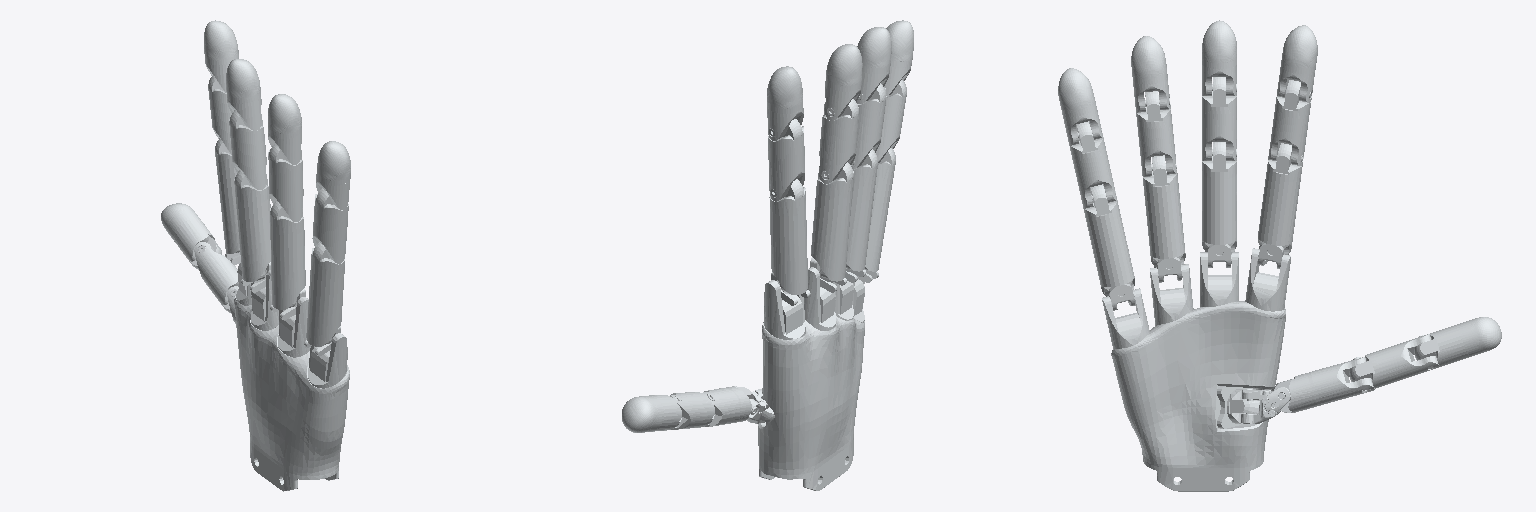
--- Facts derived from the render (not from the file) ---
3 views of the same robot in one strip: view 1: azimuth 30°, elevation 25°; view 2: azimuth 150°, elevation 25°; view 3: azimuth 270°, elevation 25° (orthographic).
Robot: wujihand-right-v1.0.1 — 26 links, 25 joints (20 revolute, 5 fixed); root link palm_link; default pose: every joint at zero.
Visible links, largest first — view 1: palm_link, finger4_link2, finger3_link2, finger5_link2, finger3_link3, finger4_link3, finger5_link3, finger2_link2, finger1_link3, finger3_tip_link, finger4_tip_link, finger2_tip_link (+7 smaller); view 2: palm_link, finger3_link2, finger2_link2, finger4_link2, finger3_link3, finger2_link3, finger5_link2, finger4_link3, finger3_tip_link, finger2_tip_link, finger1_link2, finger4_tip_link (+8 smaller); view 3: palm_link, finger4_link2, finger3_link2, finger5_link2, finger2_link2, finger1_link2, finger1_link3, finger3_link3, finger5_link3, finger4_link3, finger2_link3, finger2_tip_link (+10 smaller).
Boxes of the visible links, bbox=[...] form: palm_link: bbox=[234, 263, 349, 491]; finger4_link2: bbox=[270, 201, 305, 309]; finger3_link2: bbox=[234, 170, 270, 281]; finger5_link2: bbox=[306, 242, 344, 346]; finger3_link3: bbox=[229, 110, 266, 189]; finger4_link3: bbox=[268, 144, 303, 221]; finger5_link3: bbox=[312, 188, 348, 263]; finger2_link2: bbox=[215, 138, 239, 253]; finger1_link3: bbox=[194, 242, 238, 313]; finger3_tip_link: bbox=[226, 59, 260, 103]; finger4_tip_link: bbox=[268, 94, 301, 138]; finger2_tip_link: bbox=[204, 20, 238, 65]; palm_link: bbox=[758, 267, 864, 490]; finger3_link2: bbox=[811, 162, 853, 281]; finger2_link2: bbox=[769, 179, 807, 294]; finger4_link2: bbox=[846, 149, 877, 271]; finger3_link3: bbox=[819, 99, 858, 183]; finger2_link3: bbox=[768, 119, 804, 201]; finger5_link2: bbox=[864, 148, 895, 271]; finger4_link3: bbox=[851, 83, 886, 169]; finger3_tip_link: bbox=[825, 44, 862, 91]; finger2_tip_link: bbox=[767, 66, 802, 113]; finger1_link2: bbox=[703, 386, 757, 426]; finger4_tip_link: bbox=[857, 27, 891, 73]; palm_link: bbox=[1102, 248, 1290, 491]; finger4_link2: bbox=[1143, 155, 1185, 268]; finger3_link2: bbox=[1202, 142, 1236, 254]; finger5_link2: bbox=[1083, 184, 1134, 296]; finger2_link2: bbox=[1258, 143, 1302, 254]; finger1_link2: bbox=[1273, 357, 1374, 412]; finger1_link3: bbox=[1349, 334, 1438, 390]; finger3_link3: bbox=[1202, 77, 1236, 160]; finger5_link3: bbox=[1069, 121, 1116, 208]; finger4_link3: bbox=[1136, 91, 1176, 176]; finger2_link3: bbox=[1268, 80, 1310, 165]; finger2_tip_link: bbox=[1281, 25, 1317, 73].
Size in the robot's own frame: 0.0498 by 0.1894 by 0.2057 metres.
26 mesh visuals loaded from 26 distinct referenced files (26 binary STL).

URDF robot description (wujihand-right-v1.0.1):
<?xml version="1.0" encoding="utf-8"?>
<robot
  name="wujihand-right-v1.0.1">
  <link
    name="palm_link">
    <inertial>
      <origin
        xyz="-0.0029795 0.00045572 0.036654"
        rpy="0 0 0" />
      <mass
        value="0.2179" />
      <inertia
        ixx="0.00021637"
        ixy="3.9165E-06"
        ixz="1.0657E-05"
        iyy="0.0001461"
        iyz="-1.0223E-05"
        izz="9.3156E-05" />
    </inertial>
    <visual>
      <origin
        xyz="0 0 0"
        rpy="0 0 0" />
      <geometry>
        <mesh
          filename="../meshes/right/palm_link.STL" />
      </geometry>
      <material
        name="">
        <color
          rgba="0.89804 0.91765 0.92941 1" />
      </material>
    </visual>
    <collision>
      <origin
        xyz="0 0 0"
        rpy="0 0 0" />
      <geometry>
        <mesh
          filename="../meshes/right/palm_link.STL" />
      </geometry>
    </collision>
  </link>
  <link
    name="finger1_link1">
    <inertial>
      <origin
        xyz="-0.0024628 -0.0014428 0.0077802"
        rpy="0 0 0" />
      <mass
        value="0.0075" />
      <inertia
        ixx="1.4319E-07"
        ixy="-7.6048E-09"
        ixz="-1.812E-10"
        iyy="1.307E-07"
        iyz="1.7145E-08"
        izz="1.0259E-07" />
    </inertial>
    <visual>
      <origin
        xyz="0 0 0"
        rpy="0 0 0" />
      <geometry>
        <mesh
          filename="../meshes/right/finger1_link1.STL" />
      </geometry>
      <material
        name="">
        <color
          rgba="0.89804 0.91765 0.92941 1" />
      </material>
    </visual>
    <collision>
      <origin
        xyz="0 0 0"
        rpy="0 0 0" />
      <geometry>
        <mesh
          filename="../meshes/right/finger1_link1.STL" />
      </geometry>
    </collision>
  </link>
  <joint
    name="finger1_joint1"
    type="revolute">
    <origin
      xyz="0.0085244 0.020575 0.028712"
      rpy="-1.328 -0.37161 -0.7307" />
    <parent
      link="palm_link" />
    <child
      link="finger1_link1" />
    <axis
      xyz="-0 1 -0" />
    <limit
      lower="-0.0448"
      upper="1.6508"
      effort="0.6"
      velocity="8.58701992" />
  </joint>
  <link
    name="finger1_link2">
    <inertial>
      <origin
        xyz="0.0011196 -1.2405E-05 0.015663"
        rpy="0 0 0" />
      <mass
        value="0.0248" />
      <inertia
        ixx="1.6585E-06"
        ixy="1.071E-08"
        ixz="1.0344E-08"
        iyy="1.694E-06"
        iyz="1.058E-08"
        izz="4.1017E-07" />
    </inertial>
    <visual>
      <origin
        xyz="0 0 0"
        rpy="0 0 0" />
      <geometry>
        <mesh
          filename="../meshes/right/finger1_link2.STL" />
      </geometry>
      <material
        name="">
        <color
          rgba="0.89804 0.91765 0.92941 1" />
      </material>
    </visual>
    <collision>
      <origin
        xyz="0 0 0"
        rpy="0 0 0" />
      <geometry>
        <mesh
          filename="../meshes/right/finger1_link2.STL" />
      </geometry>
    </collision>
  </link>
  <joint
    name="finger1_joint2"
    type="revolute">
    <origin
      xyz="-0.0047549 -0.0060191 0.014132"
      rpy="-0.57428 -0.23677 1.8034" />
    <parent
      link="finger1_link1" />
    <child
      link="finger1_link2" />
    <axis
      xyz="-0 -1 -0" />
    <limit
      lower="-0.1659"
      upper="0.9339"
      effort="0.6"
      velocity="11.10029404" />
  </joint>
  <link
    name="finger1_link3">
    <inertial>
      <origin
        xyz="-0.0011235 -1.579E-05 0.013056"
        rpy="0 0 0" />
      <mass
        value="0.0165" />
      <inertia
        ixx="1.0981E-06"
        ixy="1.7603E-11"
        ixz="-1.669E-08"
        iyy="1.0736E-06"
        iyz="-9.86E-10"
        izz="3.3917E-07" />
    </inertial>
    <visual>
      <origin
        xyz="0 0 0"
        rpy="0 0 0" />
      <geometry>
        <mesh
          filename="../meshes/right/finger1_link3.STL" />
      </geometry>
      <material
        name="">
        <color
          rgba="0.89804 0.91765 0.92941 1" />
      </material>
    </visual>
    <collision>
      <origin
        xyz="0 0 0"
        rpy="0 0 0" />
      <geometry>
        <mesh
          filename="../meshes/right/finger1_link3.STL" />
      </geometry>
    </collision>
  </link>
  <joint
    name="finger1_joint3"
    type="revolute">
    <origin
      xyz="0.00018873 -0.0009916 0.034664"
      rpy="0.049049 0.017311 -1.9085" />
    <parent
      link="finger1_link2" />
    <child
      link="finger1_link3" />
    <axis
      xyz="0 1 0" />
    <limit
      lower="-0.4932"
      upper="1.6272"
      effort="0.3"
      velocity="12.86307659" />
  </joint>
  <link
    name="finger1_link4">
    <inertial>
      <origin
        xyz="-0.0011922 0.00023589 0.0082118"
        rpy="0 0 0" />
      <mass
        value="0.0165" />
      <inertia
        ixx="3.6732E-07"
        ixy="1.4236E-10"
        ixz="-5.3805E-09"
        iyy="3.7712E-07"
        iyz="-9.5967E-10"
        izz="2.1481E-07" />
    </inertial>
    <visual>
      <origin
        xyz="0 0 0"
        rpy="0 0 0" />
      <geometry>
        <mesh
          filename="../meshes/right/finger1_link4.STL" />
      </geometry>
      <material
        name="">
        <color
          rgba="0.89804 0.91765 0.92941 1" />
      </material>
    </visual>
    <collision>
      <origin
        xyz="0 0 0"
        rpy="0 0 0" />
      <geometry>
        <mesh
          filename="../meshes/right/finger1_link4.STL" />
      </geometry>
    </collision>
  </link>
  <joint
    name="finger1_joint4"
    type="revolute">
    <origin
      xyz="0 -0.00025 0.0295"
      rpy="0 0 0" />
    <parent
      link="finger1_link3" />
    <child
      link="finger1_link4" />
    <axis
      xyz="0 1 0" />
    <limit
      lower="-0.4932"
      upper="1.6272"
      effort="0.3"
      velocity="13.57866158" />
  </joint>
  <link
    name="finger1_tip_link">
    <inertial>
      <origin
        xyz="-0.00018237 -3.9481E-06 -0.0041777"
        rpy="0 0 0" />
      <mass
        value="0.004" />
      <inertia
        ixx="1.8943E-07"
        ixy="4.6143E-11"
        ixz="6.9369E-09"
        iyy="1.8859E-07"
        iyz="4.42E-10"
        izz="1.6733E-07" />
    </inertial>
    <visual>
      <origin
        xyz="0 0 0"
        rpy="0 0 0" />
      <geometry>
        <mesh
          filename="../meshes/right/finger1_tip_link.STL" />
      </geometry>
      <material
        name="">
        <color
          rgba="0.89804 0.91765 0.92941 1" />
      </material>
    </visual>
    <collision>
      <origin
        xyz="0 0 0"
        rpy="0 0 0" />
      <geometry>
        <mesh
          filename="../meshes/right/finger1_tip_link.STL" />
      </geometry>
    </collision>
  </link>
  <joint
    name="finger1_tip_fixed"
    type="fixed">
    <origin
      xyz="-0.0011048 0.00023218 0.0283"
      rpy="0 0 0" />
    <parent
      link="finger1_link4" />
    <child
      link="finger1_tip_link" />
    <axis
      xyz="0 0 0" />
  </joint>
  <link
    name="finger2_link1">
    <inertial>
      <origin
        xyz="-0.0013291 -3.2911E-08 0.00031987"
        rpy="0 0 0" />
      <mass
        value="0.0032" />
      <inertia
        ixx="2.6373E-08"
        ixy="-3.9697E-14"
        ixz="-8.0422E-09"
        iyy="2.2948E-08"
        iyz="-2.4125E-13"
        izz="2.4484E-08" />
    </inertial>
    <visual>
      <origin
        xyz="0 0 0"
        rpy="0 0 0" />
      <geometry>
        <mesh
          filename="../meshes/right/finger2_link1.STL" />
      </geometry>
      <material
        name="">
        <color
          rgba="0.89804 0.91765 0.92941 1" />
      </material>
    </visual>
    <collision>
      <origin
        xyz="0 0 0"
        rpy="0 0 0" />
      <geometry>
        <mesh
          filename="../meshes/right/finger2_link1.STL" />
      </geometry>
    </collision>
  </link>
  <joint
    name="finger2_joint1"
    type="revolute">
    <origin
      xyz="-0.0058701 0.029434 0.091917"
      rpy="-0.11071 -0.071139 -0.21822" />
    <parent
      link="palm_link" />
    <child
      link="finger2_link1" />
    <axis
      xyz="0 1 0" />
    <limit
      lower="-0.32695"
      upper="1.63595"
      effort="1"
      velocity="8.203047484" />
  </joint>
  <link
    name="finger2_link2">
    <inertial>
      <origin
        xyz="-0.0061577 -4.1189E-07 0.020911"
        rpy="0 0 0" />
      <mass
        value="0.033" />
      <inertia
        ixx="4.0385E-06"
        ixy="-1.83E-11"
        ixz="-1.0142E-07"
        iyy="4.0532E-06"
        iyz="1.4532E-10"
        izz="5.6602E-07" />
    </inertial>
    <visual>
      <origin
        xyz="0 0 0"
        rpy="0 0 0" />
      <geometry>
        <mesh
          filename="../meshes/right/finger2_link2.STL" />
      </geometry>
      <material
        name="">
        <color
          rgba="0.89804 0.91765 0.92941 1" />
      </material>
    </visual>
    <collision>
      <origin
        xyz="0 0 0"
        rpy="0 0 0" />
      <geometry>
        <mesh
          filename="../meshes/right/finger2_link2.STL" />
      </geometry>
    </collision>
  </link>
  <joint
    name="finger2_joint2"
    type="revolute">
    <origin
      xyz="0.0022 0 0.004"
      rpy="0 0 0" />
    <parent
      link="finger2_link1" />
    <child
      link="finger2_link2" />
    <axis
      xyz="-1 0 0" />
    <limit
      lower="-0.495"
      upper="0.495"
      effort="0.2"
      velocity="8.115781022" />
  </joint>
  <link
    name="finger2_link3">
    <inertial>
      <origin
        xyz="-0.0011668 4.1873E-06 0.026893"
        rpy="0 0 0" />
      <mass
        value="0.0165" />
      <inertia
        ixx="1.3423E-06"
        ixy="-6.5257E-13"
        ixz="3.4631E-08"
        iyy="1.3154E-06"
        iyz="8.8937E-10"
        izz="5.0263E-07" />
    </inertial>
    <visual>
      <origin
        xyz="0 0 0"
        rpy="0 0 0" />
      <geometry>
        <mesh
          filename="../meshes/right/finger2_link3.STL" />
      </geometry>
      <material
        name="">
        <color
          rgba="0.89804 0.91765 0.92941 1" />
      </material>
    </visual>
    <collision>
      <origin
        xyz="0 0 0"
        rpy="0 0 0" />
      <geometry>
        <mesh
          filename="../meshes/right/finger2_link3.STL" />
      </geometry>
    </collision>
  </link>
  <joint
    name="finger2_joint3"
    type="revolute">
    <origin
      xyz="-0.0047503 0 0.043618"
      rpy="0 0 -0.00026861" />
    <parent
      link="finger2_link2" />
    <child
      link="finger2_link3" />
    <axis
      xyz="-0 1 -0" />
    <limit
      lower="-0.4932"
      upper="1.6272"
      effort="0.3"
      velocity="12.86307659" />
  </joint>
  <link
    name="finger2_link4">
    <inertial>
      <origin
        xyz="-0.00089438 1.7042E-05 0.0053518"
        rpy="0 0 0" />
      <mass
        value="0.014" />
      <inertia
        ixx="1.3443E-07"
        ixy="2.4169E-11"
        ixz="4.3016E-09"
        iyy="9.4805E-08"
        iyz="2.2966E-10"
        izz="1.0952E-07" />
    </inertial>
    <visual>
      <origin
        xyz="0 0 0"
        rpy="0 0 0" />
      <geometry>
        <mesh
          filename="../meshes/right/finger2_link4.STL" />
      </geometry>
      <material
        name="">
        <color
          rgba="0.89804 0.91765 0.92941 1" />
      </material>
    </visual>
    <collision>
      <origin
        xyz="0 0 0"
        rpy="0 0 0" />
      <geometry>
        <mesh
          filename="../meshes/right/finger2_link4.STL" />
      </geometry>
    </collision>
  </link>
  <joint
    name="finger2_joint4"
    type="revolute">
    <origin
      xyz="0 0 0.0295"
      rpy="0 0 0" />
    <parent
      link="finger2_link3" />
    <child
      link="finger2_link4" />
    <axis
      xyz="-0 1 -0" />
    <limit
      lower="-0.4932"
      upper="1.6272"
      effort="0.3"
      velocity="13.57866158" />
  </joint>
  <link
    name="finger2_tip_link">
    <inertial>
      <origin
        xyz="-0.00020111 3.8638E-06 -0.009311"
        rpy="0 0 0" />
      <mass
        value="0.004" />
      <inertia
        ixx="2.2273E-07"
        ixy="1.2773E-11"
        ixz="8.4254E-09"
        iyy="2.2066E-07"
        iyz="-5.5787E-11"
        izz="1.6387E-07" />
    </inertial>
    <visual>
      <origin
        xyz="0 0 0"
        rpy="0 0 0" />
      <geometry>
        <mesh
          filename="../meshes/right/finger2_tip_link.STL" />
      </geometry>
      <material
        name="">
        <color
          rgba="0.89804 0.91765 0.92941 1" />
      </material>
    </visual>
    <collision>
      <origin
        xyz="0 0 0"
        rpy="0 0 0" />
      <geometry>
        <mesh
          filename="../meshes/right/finger2_tip_link.STL" />
      </geometry>
    </collision>
  </link>
  <joint
    name="finger2_tip_fixed"
    type="fixed">
    <origin
      xyz="-0.00105 0 0.0274"
      rpy="0 0 0" />
    <parent
      link="finger2_link4" />
    <child
      link="finger2_tip_link" />
    <axis
      xyz="0 0 0" />
  </joint>
  <link
    name="finger3_link1">
    <inertial>
      <origin
        xyz="-0.0013291 3.4987E-09 0.00031994"
        rpy="0 0 0" />
      <mass
        value="0.0032" />
      <inertia
        ixx="2.6373E-08"
        ixy="-1.1786E-13"
        ixz="-8.0422E-09"
        iyy="2.2948E-08"
        iyz="-3.1483E-13"
        izz="2.4484E-08" />
    </inertial>
    <visual>
      <origin
        xyz="0 0 0"
        rpy="0 0 0" />
      <geometry>
        <mesh
          filename="../meshes/right/finger3_link1.STL" />
      </geometry>
      <material
        name="">
        <color
          rgba="0.89804 0.91765 0.92941 1" />
      </material>
    </visual>
    <collision>
      <origin
        xyz="0 0 0"
        rpy="0 0 0" />
      <geometry>
        <mesh
          filename="../meshes/right/finger3_link1.STL" />
      </geometry>
    </collision>
  </link>
  <joint
    name="finger3_joint1"
    type="revolute">
    <origin
      xyz="-0.01046 0.0074615 0.089544"
      rpy="-5.0886E-05 -0.087266 0.00058387" />
    <parent
      link="palm_link" />
    <child
      link="finger3_link1" />
    <axis
      xyz="0 1 0" />
    <limit
      lower="-0.32695"
      upper="1.63595"
      effort="1"
      velocity="8.203047484" />
  </joint>
  <link
    name="finger3_link2">
    <inertial>
      <origin
        xyz="-0.0061576 -4.1651E-07 0.020911"
        rpy="0 0 0" />
      <mass
        value="0.033" />
      <inertia
        ixx="4.0385E-06"
        ixy="-1.8081E-11"
        ixz="-1.0144E-07"
        iyy="4.0532E-06"
        iyz="1.5178E-10"
        izz="5.6602E-07" />
    </inertial>
    <visual>
      <origin
        xyz="0 0 0"
        rpy="0 0 0" />
      <geometry>
        <mesh
          filename="../meshes/right/finger3_link2.STL" />
      </geometry>
      <material
        name="">
        <color
          rgba="0.89804 0.91765 0.92941 1" />
      </material>
    </visual>
    <collision>
      <origin
        xyz="0 0 0"
        rpy="0 0 0" />
      <geometry>
        <mesh
          filename="../meshes/right/finger3_link2.STL" />
      </geometry>
    </collision>
  </link>
  <joint
    name="finger3_joint2"
    type="revolute">
    <origin
      xyz="0.0022 0 0.004"
      rpy="0 0 0" />
    <parent
      link="finger3_link1" />
    <child
      link="finger3_link2" />
    <axis
      xyz="-1 0 0" />
    <limit
      lower="-0.495"
      upper="0.495"
      effort="0.2"
      velocity="8.115781022" />
  </joint>
  <link
    name="finger3_link3">
    <inertial>
      <origin
        xyz="-0.0011214 4.331E-06 0.015763"
        rpy="0 0 0" />
      <mass
        value="0.0165" />
      <inertia
        ixx="1.1195E-06"
        ixy="-1.2715E-11"
        ixz="2.6203E-08"
        iyy="1.0947E-06"
        iyz="9.4467E-10"
        izz="3.3876E-07" />
    </inertial>
    <visual>
      <origin
        xyz="0 0 0"
        rpy="0 0 0" />
      <geometry>
        <mesh
          filename="../meshes/right/finger3_link3.STL" />
      </geometry>
      <material
        name="">
        <color
          rgba="0.89804 0.91765 0.92941 1" />
      </material>
    </visual>
    <collision>
      <origin
        xyz="0 0 0"
        rpy="0 0 0" />
      <geometry>
        <mesh
          filename="../meshes/right/finger3_link3.STL" />
      </geometry>
    </collision>
  </link>
  <joint
    name="finger3_joint3"
    type="revolute">
    <origin
      xyz="-0.00475 0 0.043618"
      rpy="0 0 -0.00026861" />
    <parent
      link="finger3_link2" />
    <child
      link="finger3_link3" />
    <axis
      xyz="-0 1 -0" />
    <limit
      lower="-0.4932"
      upper="1.6272"
      effort="0.3"
      velocity="12.86307659" />
  </joint>
  <link
    name="finger3_link4">
    <inertial>
      <origin
        xyz="-0.00089436 1.7049E-05 0.0053518"
        rpy="0 0 0" />
      <mass
        value="0.014" />
      <inertia
        ixx="1.3443E-07"
        ixy="2.3726E-11"
        ixz="4.3018E-09"
        iyy="9.4805E-08"
        iyz="2.2969E-10"
        izz="1.0952E-07" />
    </inertial>
    <visual>
      <origin
        xyz="0 0 0"
        rpy="0 0 0" />
      <geometry>
        <mesh
          filename="../meshes/right/finger3_link4.STL" />
      </geometry>
      <material
        name="">
        <color
          rgba="0.89804 0.91765 0.92941 1" />
      </material>
    </visual>
    <collision>
      <origin
        xyz="0 0 0"
        rpy="0 0 0" />
      <geometry>
        <mesh
          filename="../meshes/right/finger3_link4.STL" />
      </geometry>
    </collision>
  </link>
  <joint
    name="finger3_joint4"
    type="revolute">
    <origin
      xyz="0 0 0.0295"
      rpy="0 0 0" />
    <parent
      link="finger3_link3" />
    <child
      link="finger3_link4" />
    <axis
      xyz="-0 1 -0" />
    <limit
      lower="-0.4932"
      upper="1.6272"
      effort="0.3"
      velocity="13.57866158" />
  </joint>
  <link
    name="finger3_tip_link">
    <inertial>
      <origin
        xyz="-0.00020328 1.4971E-06 -0.008611"
        rpy="0 0 0" />
      <mass
        value="0.004" />
      <inertia
        ixx="2.2273E-07"
        ixy="1.2612E-11"
        ixz="8.4261E-09"
        iyy="2.2066E-07"
        iyz="-5.6187E-11"
        izz="1.6387E-07" />
    </inertial>
    <visual>
      <origin
        xyz="0 0 0"
        rpy="0 0 0" />
      <geometry>
        <mesh
          filename="../meshes/right/finger3_tip_link.STL" />
      </geometry>
      <material
        name="">
        <color
          rgba="0.89804 0.91765 0.92941 1" />
      </material>
    </visual>
    <collision>
      <origin
        xyz="0 0 0"
        rpy="0 0 0" />
      <geometry>
        <mesh
          filename="../meshes/right/finger3_tip_link.STL" />
      </geometry>
    </collision>
  </link>
  <joint
    name="finger3_tip_fixed"
    type="fixed">
    <origin
      xyz="-0.0010491 0 0.0267"
      rpy="0 0 0" />
    <parent
      link="finger3_link4" />
    <child
      link="finger3_tip_link" />
    <axis
      xyz="0 0 0" />
  </joint>
  <link
    name="finger4_link1">
    <inertial>
      <origin
        xyz="-0.0013291 1.0048E-08 0.00031995"
        rpy="0 0 0" />
      <mass
        value="0.0032" />
      <inertia
        ixx="2.6373E-08"
        ixy="-1.2054E-13"
        ixz="-8.0422E-09"
        iyy="2.2948E-08"
        iyz="-2.8844E-13"
        izz="2.4484E-08" />
    </inertial>
    <visual>
      <origin
        xyz="0 0 0"
        rpy="0 0 0" />
      <geometry>
        <mesh
          filename="../meshes/right/finger4_link1.STL" />
      </geometry>
      <material
        name="">
        <color
          rgba="0.89804 0.91765 0.92941 1" />
      </material>
    </visual>
    <collision>
      <origin
        xyz="0 0 0"
        rpy="0 0 0" />
      <geometry>
        <mesh
          filename="../meshes/right/finger4_link1.STL" />
      </geometry>
    </collision>
  </link>
  <joint
    name="finger4_joint1"
    type="revolute">
    <origin
      xyz="-0.0076649 -0.013712 0.084429"
      rpy="0.090375 -0.083436 0.047127" />
    <parent
      link="palm_link" />
    <child
      link="finger4_link1" />
    <axis
      xyz="-0 1 -0" />
    <limit
      lower="-0.32695"
      upper="1.63595"
      effort="1"
      velocity="8.203047484" />
  </joint>
  <link
    name="finger4_link2">
    <inertial>
      <origin
        xyz="-0.0061576 -4.1601E-07 0.020911"
        rpy="0 0 0" />
      <mass
        value="0.033" />
      <inertia
        ixx="4.0385E-06"
        ixy="-1.7998E-11"
        ixz="-1.0144E-07"
        iyy="4.0532E-06"
        iyz="1.5146E-10"
        izz="5.6602E-07" />
    </inertial>
    <visual>
      <origin
        xyz="0 0 0"
        rpy="0 0 0" />
      <geometry>
        <mesh
          filename="../meshes/right/finger4_link2.STL" />
      </geometry>
      <material
        name="">
        <color
          rgba="0.89804 0.91765 0.92941 1" />
      </material>
    </visual>
    <collision>
      <origin
        xyz="0 0 0"
        rpy="0 0 0" />
      <geometry>
        <mesh
          filename="../meshes/right/finger4_link2.STL" />
      </geometry>
    </collision>
  </link>
  <joint
    name="finger4_joint2"
    type="revolute">
    <origin
      xyz="0.0022 0 0.004"
      rpy="0 0 0" />
    <parent
      link="finger4_link1" />
    <child
      link="finger4_link2" />
    <axis
      xyz="-1 0 0" />
    <limit
      lower="-0.495"
      upper="0.495"
      effort="0.2"
      velocity="8.115781022" />
  </joint>
  <link
    name="finger4_link3">
    <inertial>
      <origin
        xyz="-0.0011214 4.3494E-06 0.015763"
        rpy="0 0 0" />
      <mass
        value="0.0165" />
      <inertia
        ixx="1.1195E-06"
        ixy="-1.3219E-11"
        ixz="2.6205E-08"
        iyy="1.0947E-06"
        iyz="9.4455E-10"
        izz="3.3876E-07" />
    </inertial>
    <visual>
      <origin
        xyz="0 0 0"
        rpy="0 0 0" />
      <geometry>
        <mesh
          filename="../meshes/right/finger4_link3.STL" />
      </geometry>
      <material
        name="">
        <color
          rgba="0.89804 0.91765 0.92941 1" />
      </material>
    </visual>
    <collision>
      <origin
        xyz="0 0 0"
        rpy="0 0 0" />
      <geometry>
        <mesh
          filename="../meshes/right/finger4_link3.STL" />
      </geometry>
    </collision>
  </link>
  <joint
    name="finger4_joint3"
    type="revolute">
    <origin
      xyz="-0.00475 0 0.043618"
      rpy="0 0 -0.00026861" />
    <parent
      link="finger4_link2" />
    <child
      link="finger4_link3" />
    <axis
      xyz="-0 1 -0" />
    <limit
      lower="-0.4932"
      upper="1.6272"
      effort="0.3"
      velocity="12.86307659" />
  </joint>
  <link
    name="finger4_link4">
    <inertial>
      <origin
        xyz="-0.00089436 1.7058E-05 0.0053518"
        rpy="0 0 0" />
      <mass
        value="0.014" />
      <inertia
        ixx="1.3443E-07"
        ixy="2.3562E-11"
        ixz="4.3018E-09"
        iyy="9.4805E-08"
        iyz="2.2977E-10"
        izz="1.0952E-07" />
    </inertial>
    <visual>
      <origin
        xyz="0 0 0"
        rpy="0 0 0" />
      <geometry>
        <mesh
          filename="../meshes/right/finger4_link4.STL" />
      </geometry>
      <material
        name="">
        <color
          rgba="0.89804 0.91765 0.92941 1" />
      </material>
    </visual>
    <collision>
      <origin
        xyz="0 0 0"
        rpy="0 0 0" />
      <geometry>
        <mesh
          filename="../meshes/right/finger4_link4.STL" />
      </geometry>
    </collision>
  </link>
  <joint
    name="finger4_joint4"
    type="revolute">
    <origin
      xyz="0 0 0.0295"
      rpy="0 0 0" />
    <parent
      link="finger4_link3" />
    <child
      link="finger4_link4" />
    <axis
      xyz="-0 1 -0" />
    <limit
      lower="-0.4932"
      upper="1.6272"
      effort="0.3"
      velocity="13.57866158" />
  </joint>
  <link
    name="finger4_tip_link">
    <inertial>
      <origin
        xyz="-0.00020322 1.528E-06 -0.0086106"
        rpy="0 0 0" />
      <mass
        value="0.004" />
      <inertia
        ixx="2.2277E-07"
        ixy="1.136E-11"
        ixz="8.4288E-09"
        iyy="2.2068E-07"
        iyz="-5.6207E-11"
        izz="1.6386E-07" />
    </inertial>
    <visual>
      <origin
        xyz="0 0 0"
        rpy="0 0 0" />
      <geometry>
        <mesh
          filename="../meshes/right/finger4_tip_link.STL" />
      </geometry>
      <material
        name="">
        <color
          rgba="0.89804 0.91765 0.92941 1" />
      </material>
    </visual>
    <collision>
      <origin
        xyz="0 0 0"
        rpy="0 0 0" />
      <geometry>
        <mesh
          filename="../meshes/right/finger4_tip_link.STL" />
      </geometry>
    </collision>
  </link>
  <joint
    name="finger4_tip_fixed"
    type="fixed">
    <origin
      xyz="-0.0010528 0 0.0267"
      rpy="0 0 0" />
    <parent
      link="finger4_link4" />
    <child
      link="finger4_tip_link" />
    <axis
      xyz="0 0 0" />
  </joint>
  <link
    name="finger5_link1">
    <inertial>
      <origin
        xyz="-0.0013291 1.7235E-08 0.00031997"
        rpy="0 0 0" />
      <mass
        value="0.0032" />
      <inertia
        ixx="2.6373E-08"
        ixy="-1.1921E-13"
        ixz="-8.0423E-09"
        iyy="2.2948E-08"
        iyz="-2.4014E-13"
        izz="2.4484E-08" />
    </inertial>
    <visual>
      <origin
        xyz="0 0 0"
        rpy="0 0 0" />
      <geometry>
        <mesh
          filename="../meshes/right/finger5_link1.STL" />
      </geometry>
      <material
        name="">
        <color
          rgba="0.89804 0.91765 0.92941 1" />
      </material>
    </visual>
    <collision>
      <origin
        xyz="0 0 0"
        rpy="0 0 0" />
      <geometry>
        <mesh
          filename="../meshes/right/finger5_link1.STL" />
      </geometry>
    </collision>
  </link>
  <joint
    name="finger5_joint1"
    type="revolute">
    <origin
      xyz="-0.0022687 -0.034001 0.074281"
      rpy="0.19248 -0.092517 0.15767" />
    <parent
      link="palm_link" />
    <child
      link="finger5_link1" />
    <axis
      xyz="0 1 0" />
    <limit
      lower="-0.32695"
      upper="1.63595"
      effort="1"
      velocity="8.203047484" />
  </joint>
  <link
    name="finger5_link2">
    <inertial>
      <origin
        xyz="-0.0061576 -4.1475E-07 0.020911"
        rpy="0 0 0" />
      <mass
        value="0.033" />
      <inertia
        ixx="4.0385E-06"
        ixy="-1.7718E-11"
        ixz="-1.0144E-07"
        iyy="4.0532E-06"
        iyz="1.5076E-10"
        izz="5.6602E-07" />
    </inertial>
    <visual>
      <origin
        xyz="0 0 0"
        rpy="0 0 0" />
      <geometry>
        <mesh
          filename="../meshes/right/finger5_link2.STL" />
      </geometry>
      <material
        name="">
        <color
          rgba="0.89804 0.91765 0.92941 1" />
      </material>
    </visual>
    <collision>
      <origin
        xyz="0 0 0"
        rpy="0 0 0" />
      <geometry>
        <mesh
          filename="../meshes/right/finger5_link2.STL" />
      </geometry>
    </collision>
  </link>
  <joint
    name="finger5_joint2"
    type="revolute">
    <origin
      xyz="0.0022 0 0.004"
      rpy="0 0 0" />
    <parent
      link="finger5_link1" />
    <child
      link="finger5_link2" />
    <axis
      xyz="-1 0 0" />
    <limit
      lower="-0.495"
      upper="0.495"
      effort="0.2"
      velocity="8.115781022" />
  </joint>
  <link
    name="finger5_link3">
    <inertial>
      <origin
        xyz="-0.0011214 4.3703E-06 0.015763"
        rpy="0 0 0" />
      <mass
        value="0.0165" />
      <inertia
        ixx="1.1195E-06"
        ixy="-1.3445E-11"
        ixz="2.6207E-08"
        iyy="1.0947E-06"
        iyz="9.436E-10"
        izz="3.3876E-07" />
    </inertial>
    <visual>
      <origin
        xyz="0 0 0"
        rpy="0 0 0" />
      <geometry>
        <mesh
          filename="../meshes/right/finger5_link3.STL" />
      </geometry>
      <material
        name="">
        <color
          rgba="0.89804 0.91765 0.92941 1" />
      </material>
    </visual>
    <collision>
      <origin
        xyz="0 0 0"
        rpy="0 0 0" />
      <geometry>
        <mesh
          filename="../meshes/right/finger5_link3.STL" />
      </geometry>
    </collision>
  </link>
  <joint
    name="finger5_joint3"
    type="revolute">
    <origin
      xyz="-0.00475 0 0.043618"
      rpy="0 0 -0.00026861" />
    <parent
      link="finger5_link2" />
    <child
      link="finger5_link3" />
    <axis
      xyz="-0 1 -0" />
    <limit
      lower="-0.4932"
      upper="1.6272"
      effort="0.3"
      velocity="12.86307659" />
  </joint>
  <link
    name="finger5_link4">
    <inertial>
      <origin
        xyz="-0.00089437 1.7063E-05 0.0053518"
        rpy="0 0 0" />
      <mass
        value="0.014" />
      <inertia
        ixx="1.3443E-07"
        ixy="2.3618E-11"
        ixz="4.3017E-09"
        iyy="9.4805E-08"
        iyz="2.2985E-10"
        izz="1.0952E-07" />
    </inertial>
    <visual>
      <origin
        xyz="0 0 0"
        rpy="0 0 0" />
      <geometry>
        <mesh
          filename="../meshes/right/finger5_link4.STL" />
      </geometry>
      <material
        name="">
        <color
          rgba="0.89804 0.91765 0.92941 1" />
      </material>
    </visual>
    <collision>
      <origin
        xyz="0 0 0"
        rpy="0 0 0" />
      <geometry>
        <mesh
          filename="../meshes/right/finger5_link4.STL" />
      </geometry>
    </collision>
  </link>
  <joint
    name="finger5_joint4"
    type="revolute">
    <origin
      xyz="0 0 0.0295"
      rpy="0 0 0" />
    <parent
      link="finger5_link3" />
    <child
      link="finger5_link4" />
    <axis
      xyz="-0 1 -0" />
    <limit
      lower="-0.4932"
      upper="1.6272"
      effort="0.3"
      velocity="13.57866158" />
  </joint>
  <link
    name="finger5_tip_link">
    <inertial>
      <origin
        xyz="-0.00020332 1.4872E-06 -0.0086111"
        rpy="0 0 0" />
      <mass
        value="0.004" />
      <inertia
        ixx="2.2273E-07"
        ixy="1.2441E-11"
        ixz="8.4267E-09"
        iyy="2.2066E-07"
        iyz="-5.5241E-11"
        izz="1.6386E-07" />
    </inertial>
    <visual>
      <origin
        xyz="0 0 0"
        rpy="0 0 0" />
      <geometry>
        <mesh
          filename="../meshes/right/finger5_tip_link.STL" />
      </geometry>
      <material
        name="">
        <color
          rgba="0.89804 0.91765 0.92941 1" />
      </material>
    </visual>
    <collision>
      <origin
        xyz="0 0 0"
        rpy="0 0 0" />
      <geometry>
        <mesh
          filename="../meshes/right/finger5_tip_link.STL" />
      </geometry>
    </collision>
  </link>
  <joint
    name="finger5_tip_fixed"
    type="fixed">
    <origin
      xyz="-0.0010446 1.1308E-05 0.0267"
      rpy="0 0 0" />
    <parent
      link="finger5_link4" />
    <child
      link="finger5_tip_link" />
    <axis
      xyz="0 0 0" />
  </joint>
</robot>
